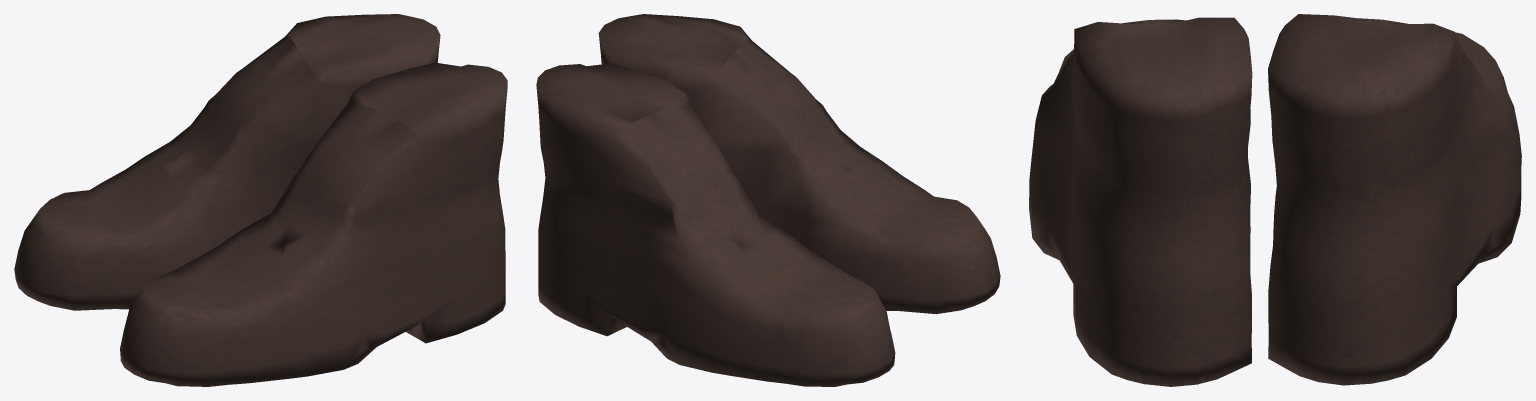
Rendered from boots2.fbx.
3 views of the same model, side by side, from view 1: azimuth 30°, elevation 25°; view 2: azimuth 150°, elevation 25°; view 3: azimuth 270°, elevation 25° (orthographic). The views are drawn at different scales.
Parts seen in each view (by area): view 1: Plane; view 2: Plane; view 3: Plane.
Part boxes in pixels (left/top/right/bottom): Plane: left=14, top=14, right=507, bottom=386; Plane: left=536, top=14, right=1000, bottom=386; Plane: left=1029, top=14, right=1521, bottom=386.
Bounding box in the file's own units: 504 × 276 × 411.
1 material, 1 textured.
